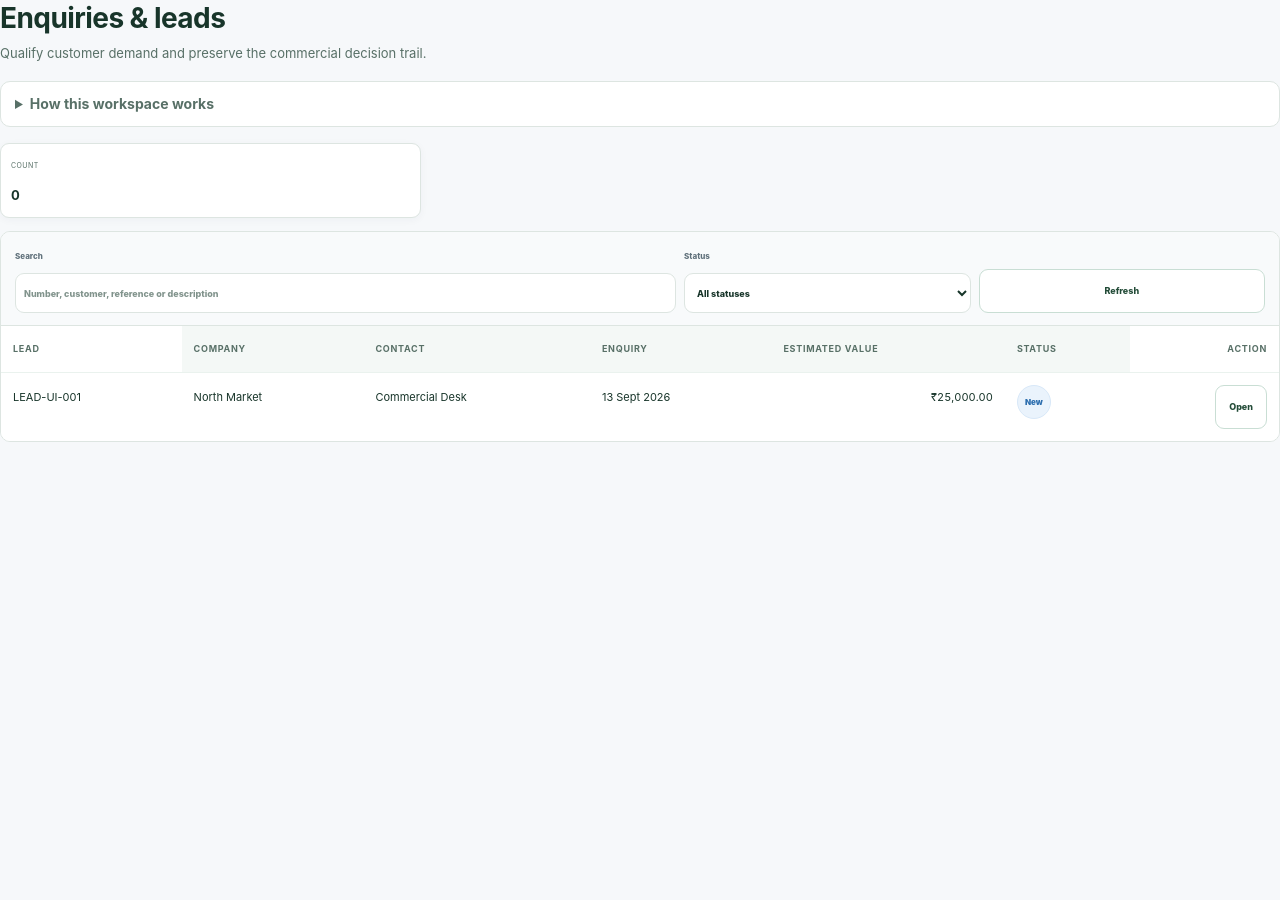
Test: P2 commercial and finance workspaces › executes a record action with its optimistic version and reloads detail
Step 1. Click the button "Open" → [1241, 407], box [1215,385,1267,429]
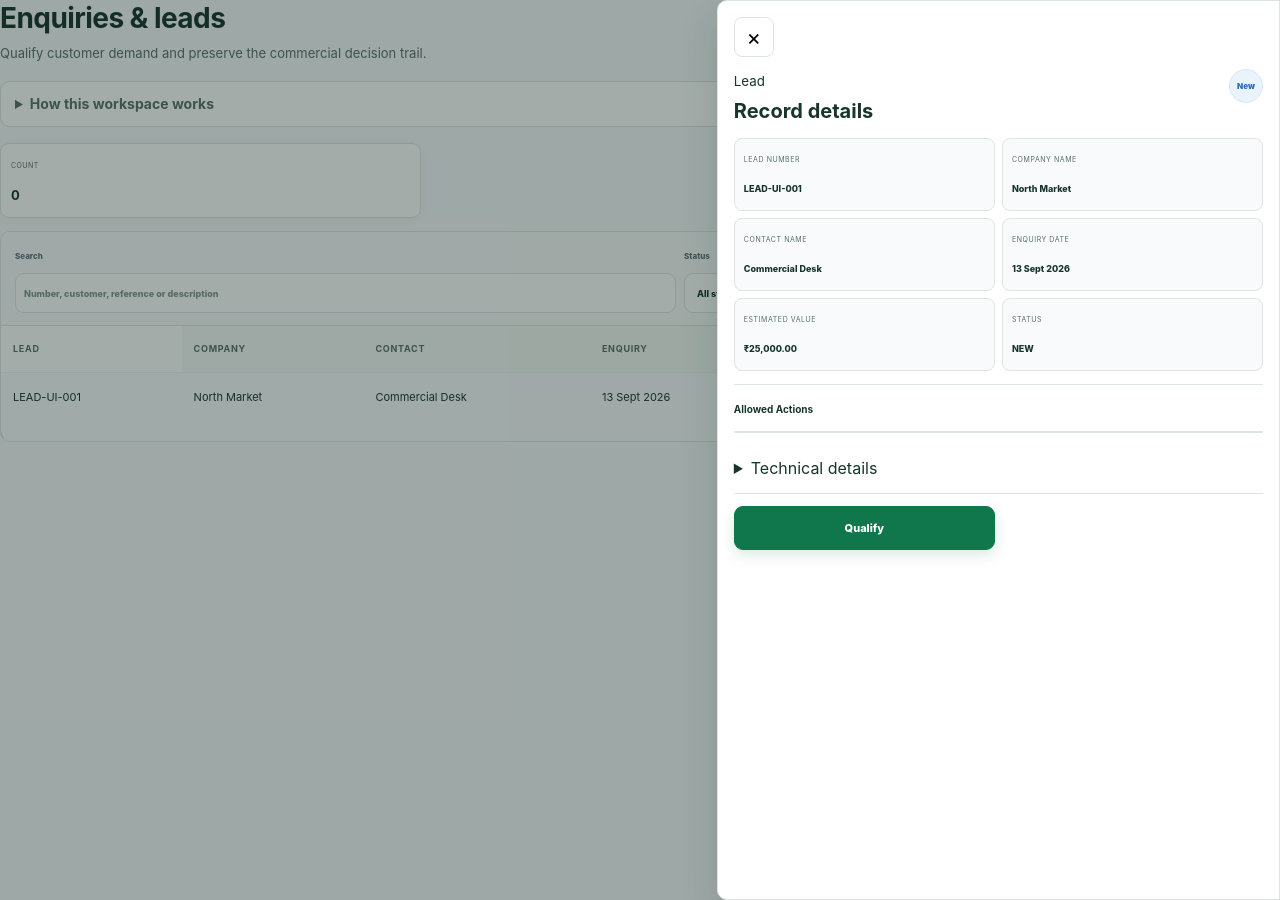
Step 2. Click the button "Qualify" → [864, 528], box [734,506,995,550]
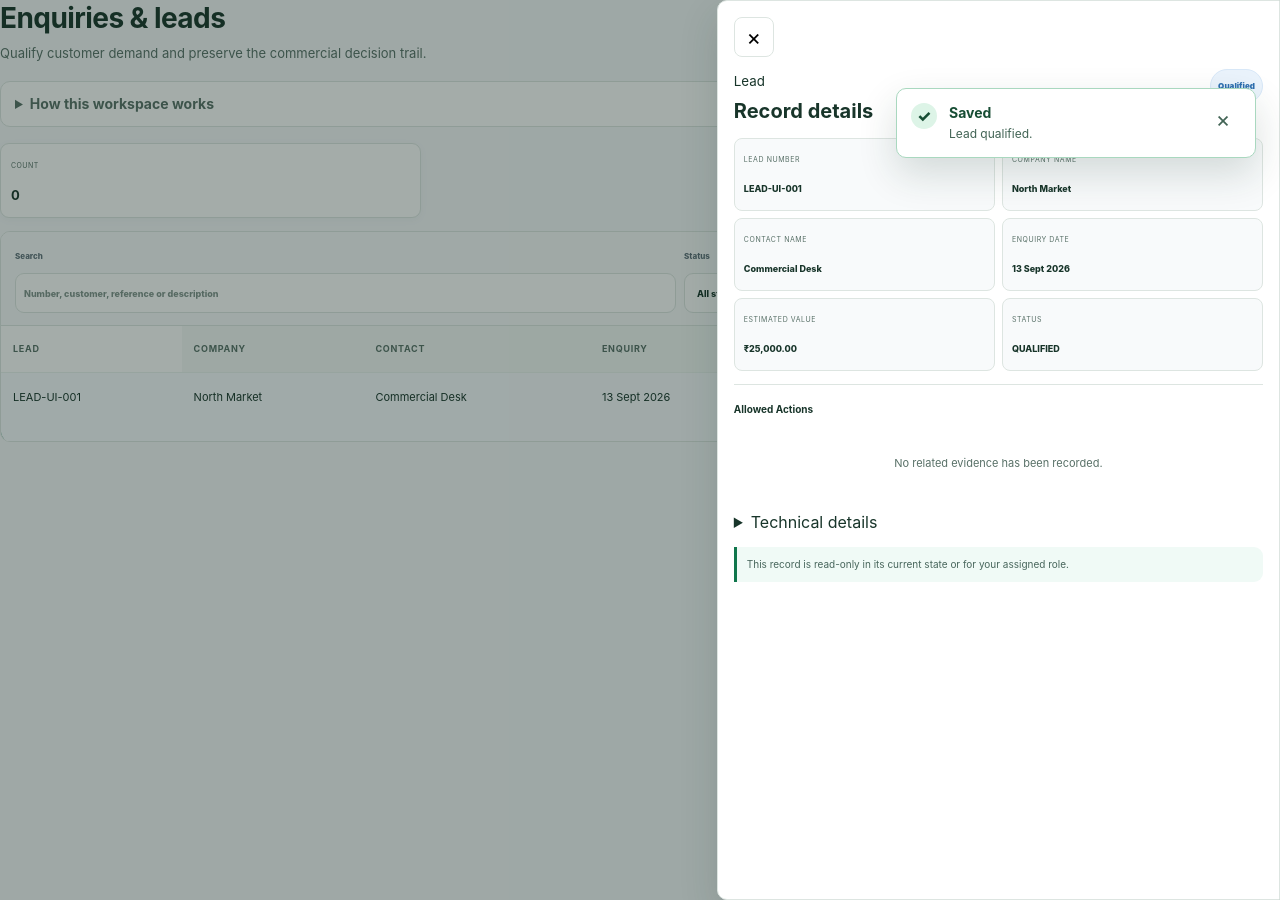
expect the text "Lead qualified." is shown: met, box [949,126,1032,141]
